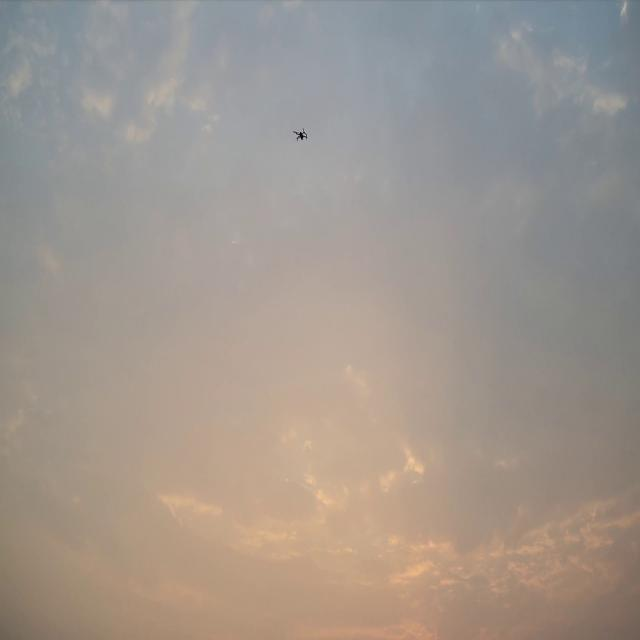drone: (292, 127, 308, 141)
